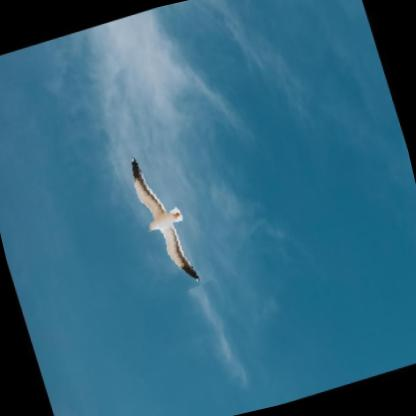bird: (117, 139, 210, 300)
